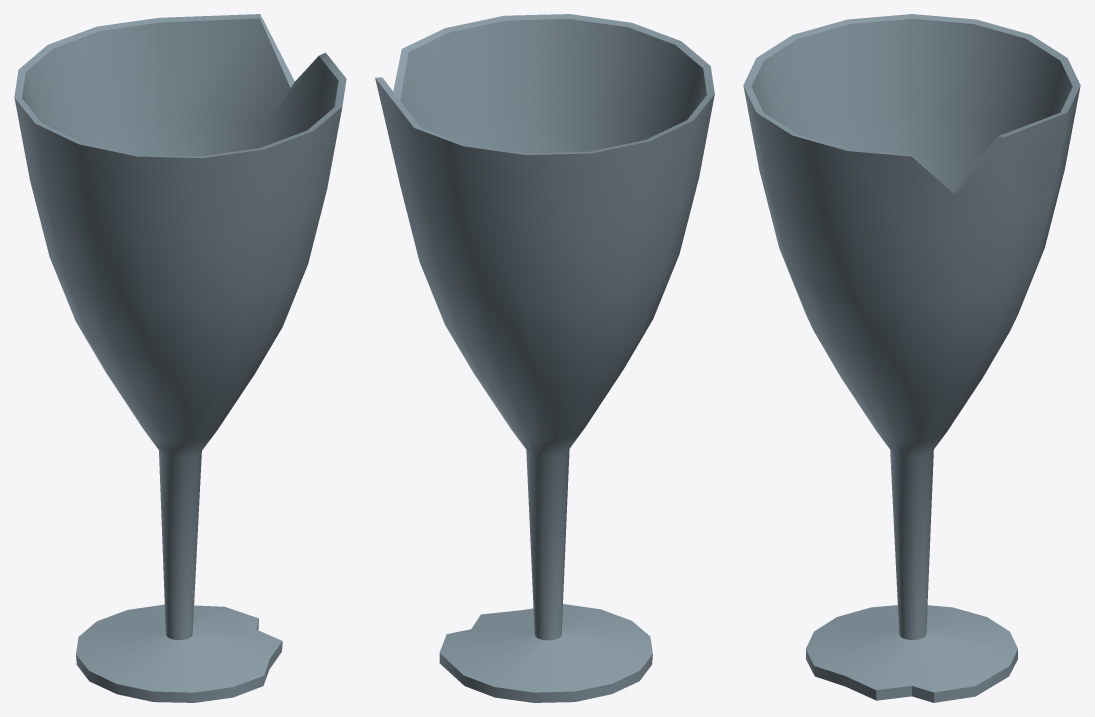
The model's file is Vaso_03.fbx.
3 views of the same model, side by side, from view 1: azimuth 30°, elevation 25°; view 2: azimuth 150°, elevation 25°; view 3: azimuth 270°, elevation 25° (orthographic).
Parts seen in each view (by area): view 1: Vaso_03; view 2: Vaso_03; view 3: Vaso_03.
Part boxes in pixels (x1,y1,x2,y2): Vaso_03: (14,14,346,702); Vaso_03: (375,14,714,702); Vaso_03: (743,14,1080,702).
Bounding box in the file's own units: 30.9 × 59.03 × 30.9.
